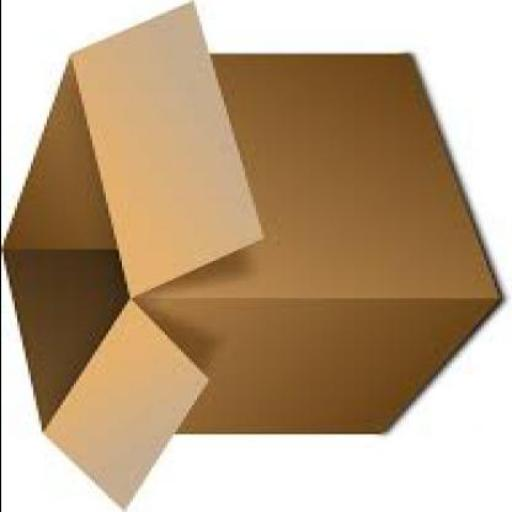cardboard: (1, 0, 501, 511)
